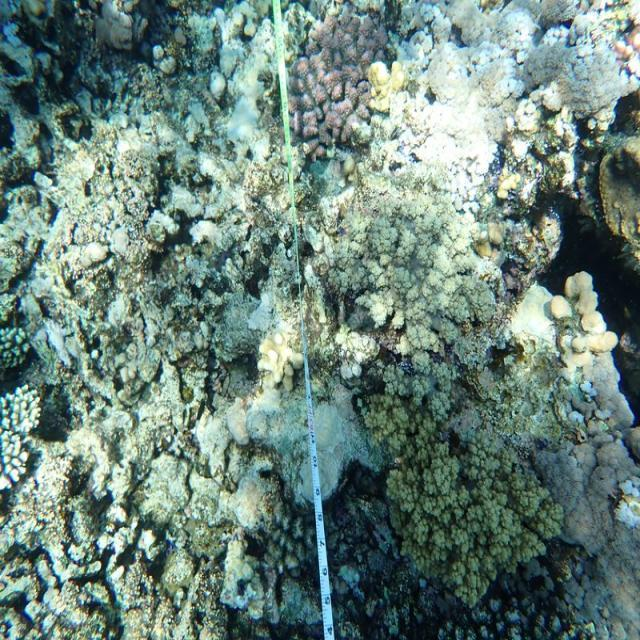Bleached Coral: (371, 0, 640, 194), (0, 386, 40, 491), (568, 383, 617, 437), (613, 477, 640, 527)
Healthy Coral: (358, 394, 561, 604), (284, 4, 385, 146)
